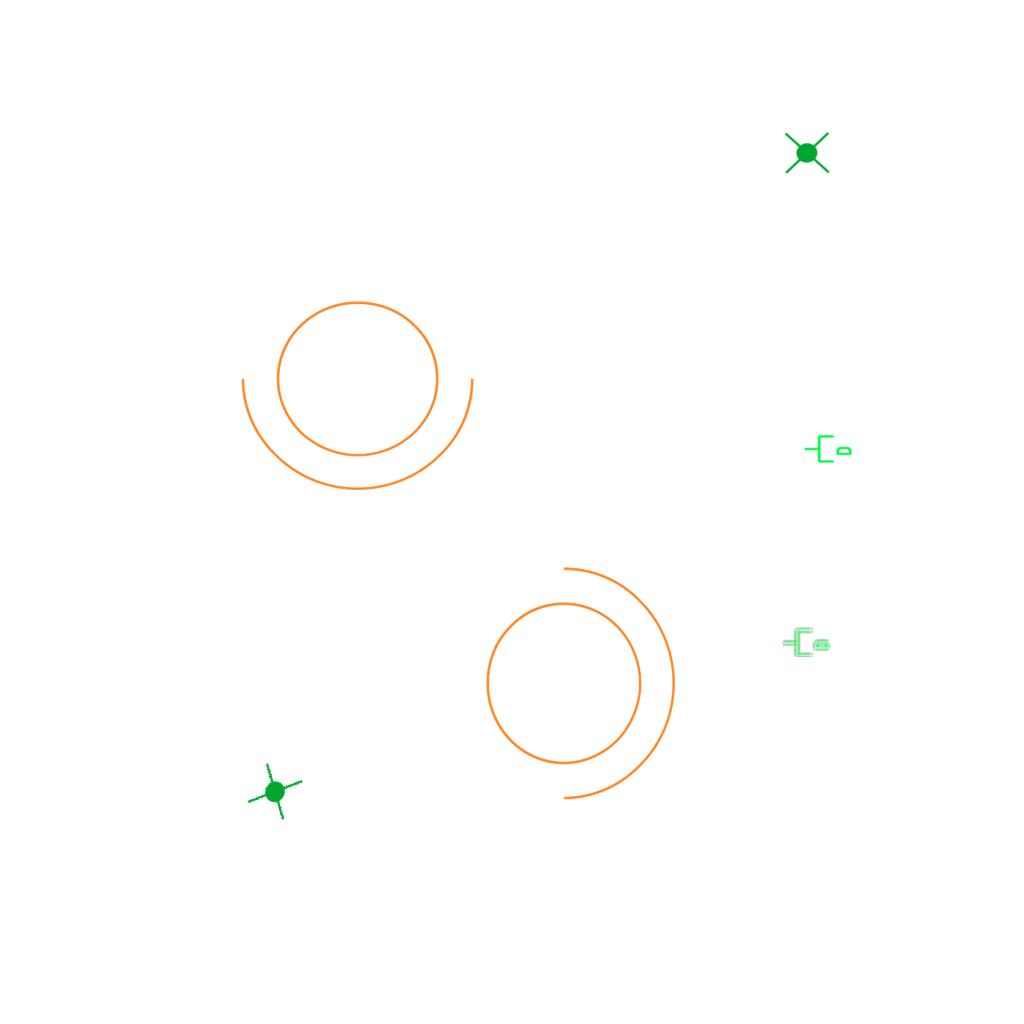Datenanschluss_einfach: (781, 625, 831, 659), (803, 431, 853, 465)
Notlichtbaustein_in_Allgemeinbeleuchtug_engebaut_Einbau_(1UG_und_2UG_Aufbauvaria: (241, 758, 310, 826), (782, 128, 832, 179)
Scheinwerfer_fuer_Alarmbeleuchtung: (461, 545, 686, 809), (232, 276, 496, 501)
